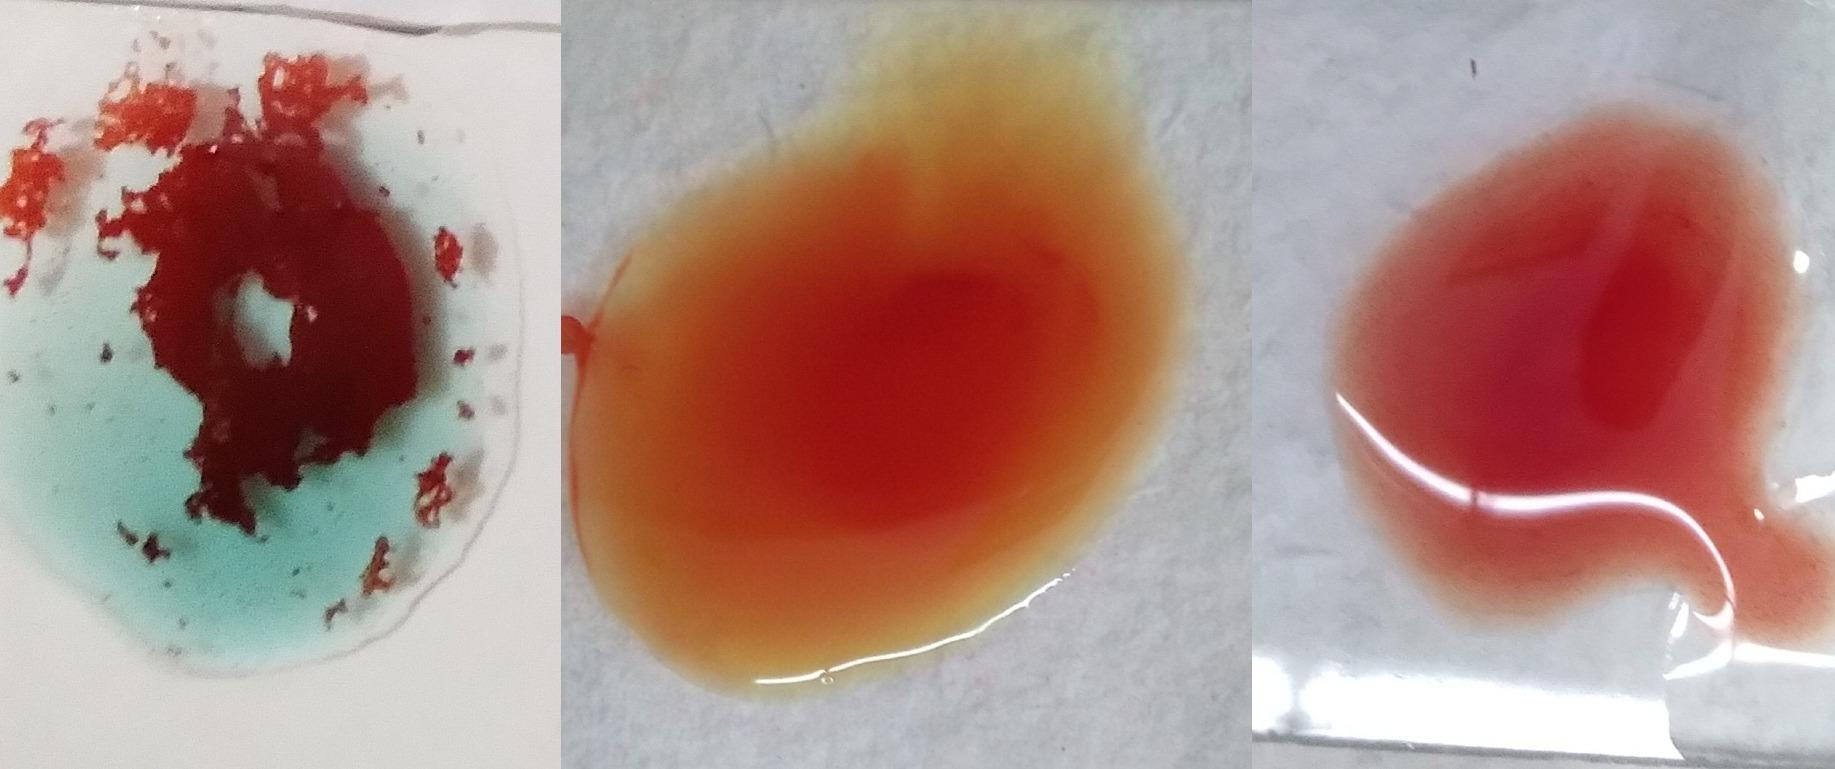A: (0, 70, 509, 677)
